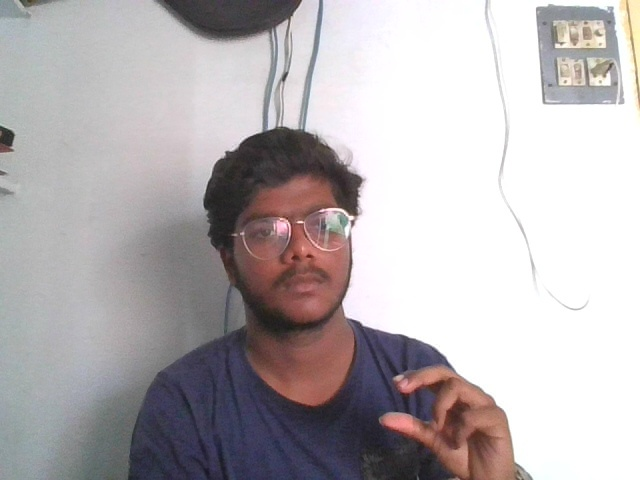No: (369, 352, 532, 476)
